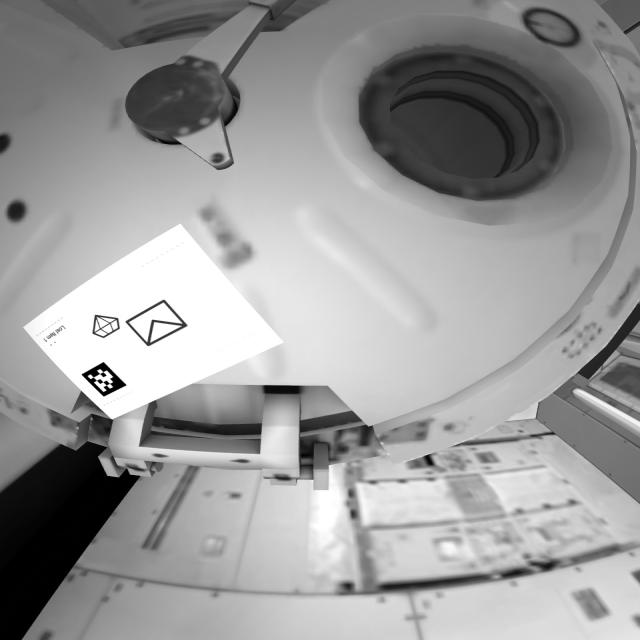diamond: (90, 311, 128, 341)
letter: (116, 300, 205, 346)
